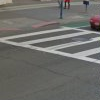crosswalk: (5, 26, 100, 63)
